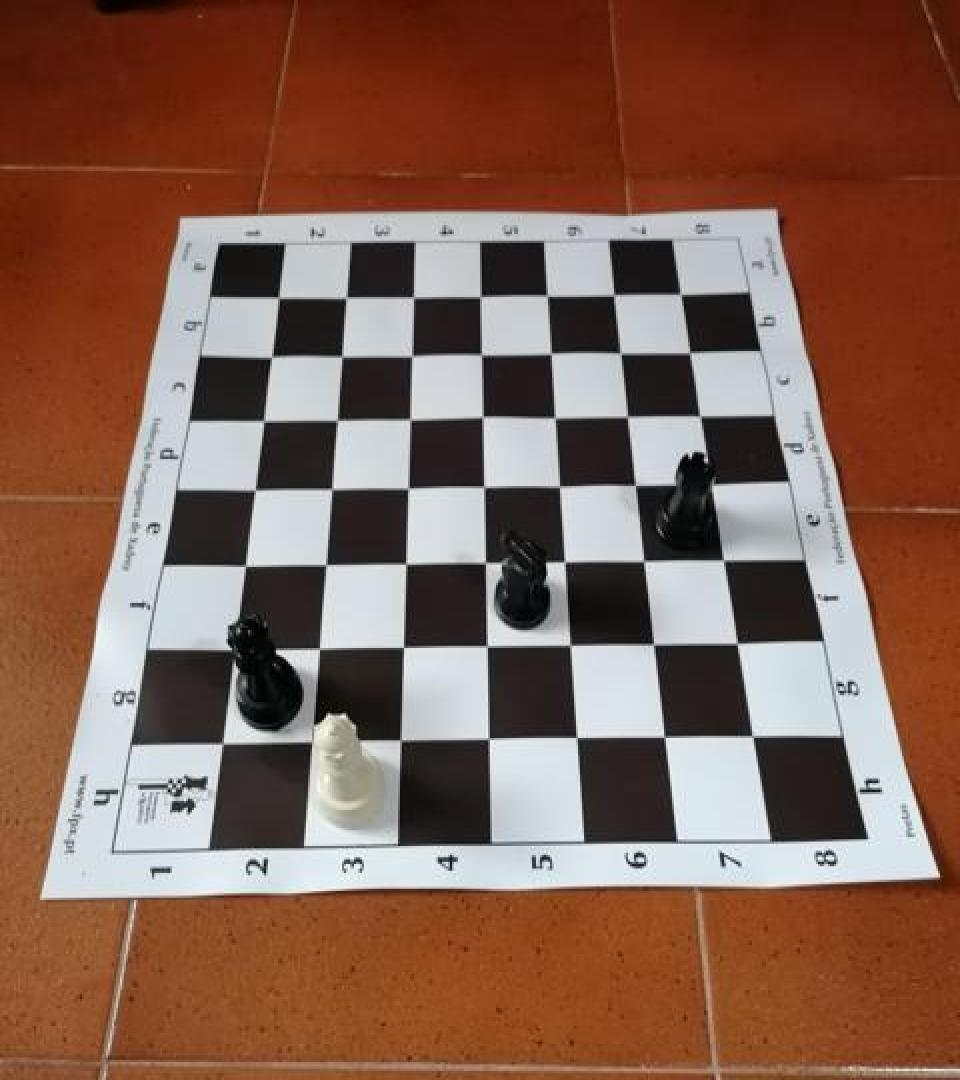xcorner: (630, 543, 662, 580), (550, 543, 582, 580), (470, 544, 502, 581), (390, 545, 422, 582), (725, 625, 757, 662), (664, 277, 696, 313), (597, 278, 629, 314), (531, 278, 563, 314), (464, 279, 496, 315), (397, 279, 429, 315), (331, 280, 363, 316), (264, 280, 296, 316), (674, 334, 706, 370), (604, 335, 636, 371), (535, 335, 567, 371), (466, 336, 498, 372), (396, 338, 428, 374), (326, 338, 358, 374), (256, 338, 288, 374), (685, 397, 717, 433), (612, 398, 644, 434), (540, 398, 572, 434), (467, 400, 499, 436), (394, 400, 426, 436), (321, 400, 353, 436), (248, 402, 280, 438), (697, 466, 729, 502), (621, 467, 653, 503), (545, 468, 577, 504), (468, 469, 500, 505), (392, 469, 424, 505), (315, 470, 347, 506), (239, 472, 271, 508), (710, 542, 742, 578), (309, 547, 341, 583), (228, 548, 260, 584), (641, 626, 673, 662), (557, 628, 589, 664), (472, 630, 504, 666), (387, 631, 419, 667), (302, 632, 334, 668), (217, 634, 249, 670), (742, 720, 774, 756), (653, 721, 685, 757), (564, 722, 596, 758), (474, 724, 506, 760), (385, 724, 417, 760), (295, 727, 327, 763), (205, 728, 237, 764)
